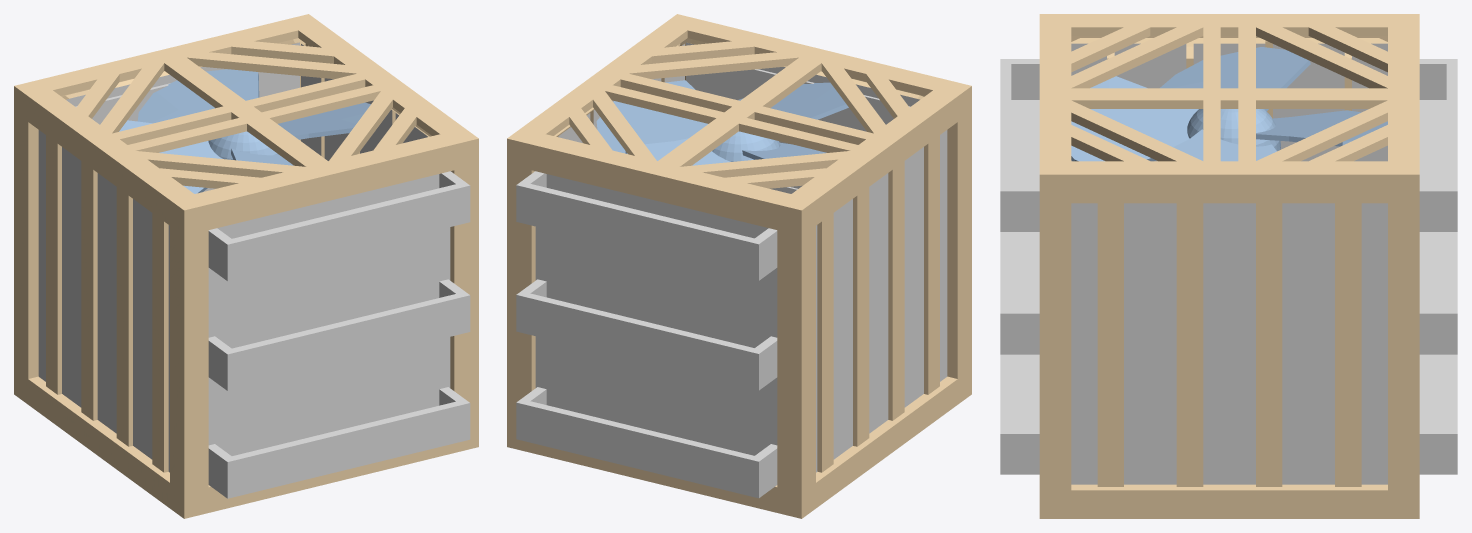
The model's file is Jumpad.fbx.
3 renders of one model, left to right at view 1: azimuth 30°, elevation 25°; view 2: azimuth 150°, elevation 25°; view 3: azimuth 270°, elevation 25°, orthographic. The views are drawn at different scales.
Parts seen in each view (by area): view 1: Cube, Planter 1.005, Planter 1.004, Planter 1.003, FanBlade4, FanBlade 1, Planter 1.002, Sphere, FanBlade 2, FanBlade 3; view 2: Cube, Planter 1, Planter 1.001, Planter 1.002, FanBlade 1, Planter 1.003, FanBlade 3, Sphere, FanBlade 2, FanBlade4; view 3: Cube, Planter 1.003, Planter 1.002, Planter 1.004, Planter 1.005, Planter 1.001, Planter 1, FanBlade 3, FanBlade 2, FanBlade4, Sphere, FanBlade 1.
Boxes of the visible parts, x1=… form: Cube: x1=14, y1=14, x2=478, y2=518; Planter 1.005: x1=208, y1=387, x2=470, y2=498; Planter 1.004: x1=208, y1=279, x2=470, y2=390; Planter 1.003: x1=208, y1=171, x2=470, y2=281; FanBlade4: x1=137, y1=69, x2=259, y2=123; FanBlade 1: x1=278, y1=102, x2=370, y2=139; Planter 1.002: x1=75, y1=72, x2=292, y2=124; Sphere: x1=208, y1=131, x2=278, y2=159; FanBlade 2: x1=119, y1=120, x2=222, y2=193; FanBlade 3: x1=231, y1=148, x2=293, y2=165; Cube: x1=507, y1=14, x2=971, y2=518; Planter 1: x1=516, y1=387, x2=777, y2=498; Planter 1.001: x1=516, y1=279, x2=777, y2=390; Planter 1.002: x1=516, y1=171, x2=777, y2=280; FanBlade 1: x1=596, y1=80, x2=707, y2=153; Planter 1.003: x1=694, y1=69, x2=910, y2=131; FanBlade 3: x1=738, y1=82, x2=848, y2=119; Sphere: x1=712, y1=131, x2=780, y2=161; FanBlade 2: x1=742, y1=142, x2=826, y2=159; FanBlade4: x1=625, y1=138, x2=730, y2=165; Cube: x1=1039, y1=14, x2=1419, y2=518; Planter 1.003: x1=1000, y1=59, x2=1039, y2=231; Planter 1.002: x1=1419, y1=59, x2=1457, y2=231; Planter 1.004: x1=1000, y1=232, x2=1039, y2=354; Planter 1.005: x1=1000, y1=354, x2=1039, y2=474; Planter 1.001: x1=1419, y1=232, x2=1457, y2=354; Planter 1: x1=1419, y1=354, x2=1457, y2=474; FanBlade 3: x1=1071, y1=76, x2=1198, y2=161; FanBlade 2: x1=1160, y1=47, x2=1310, y2=111; FanBlade4: x1=1256, y1=110, x2=1387, y2=146; Sphere: x1=1187, y1=109, x2=1280, y2=151; FanBlade 1: x1=1173, y1=129, x2=1276, y2=161.
Size of the model in its own units: 200 by 200 by 241.
